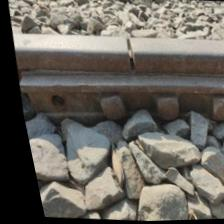person: (82, 14, 173, 89)
